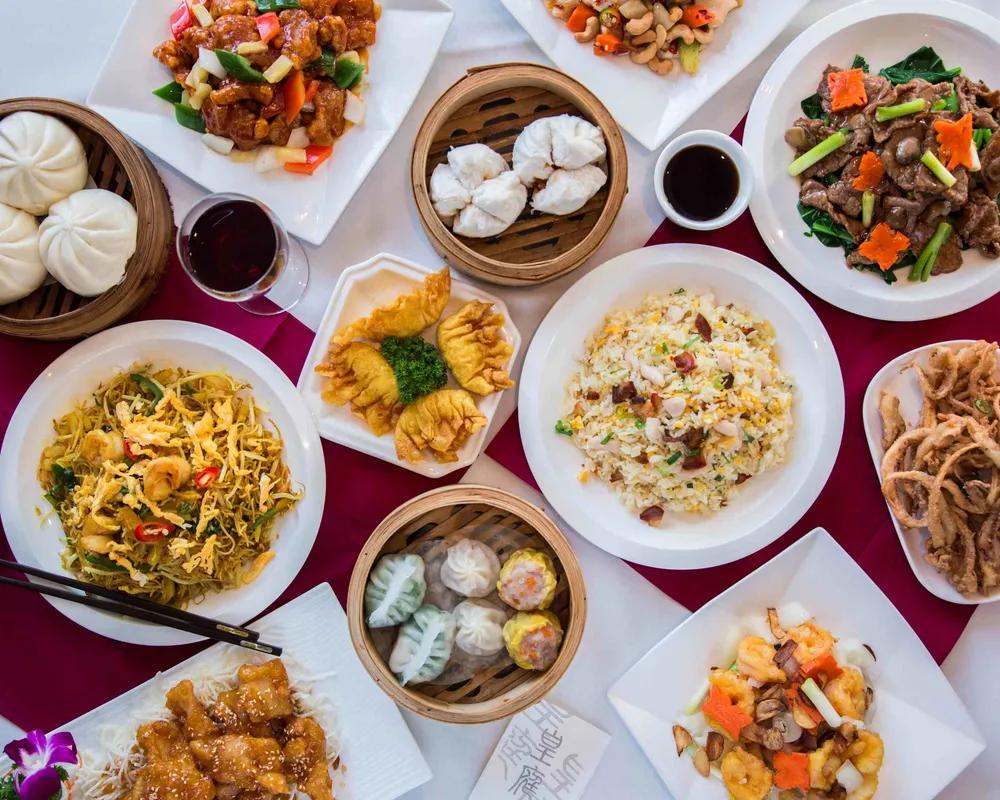Braised Crucian Carp: (604, 536, 984, 792), (0, 321, 330, 610), (528, 246, 831, 549), (0, 599, 426, 800), (90, 0, 448, 236), (741, 2, 996, 323), (344, 490, 570, 721), (408, 60, 621, 287), (296, 255, 496, 466), (0, 93, 175, 331)
